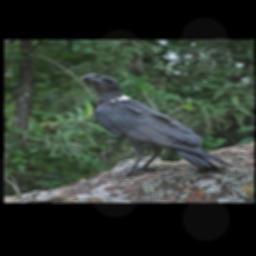Crow: (76, 72, 232, 179)
